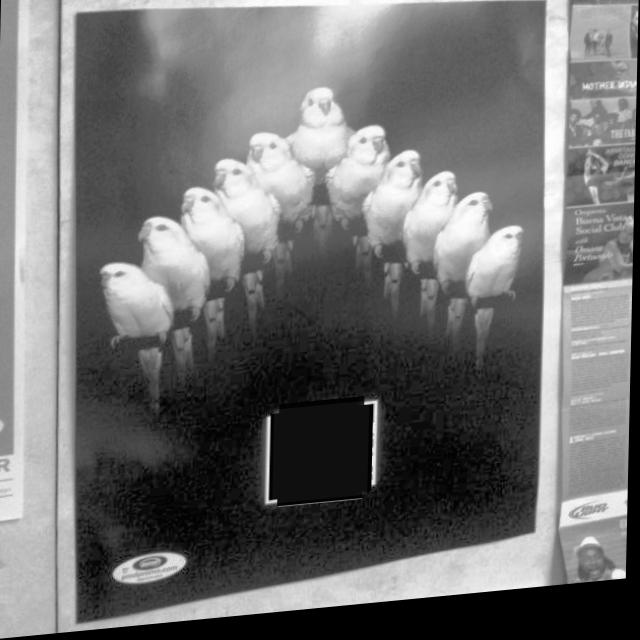qr_code: (274, 408, 370, 510)
